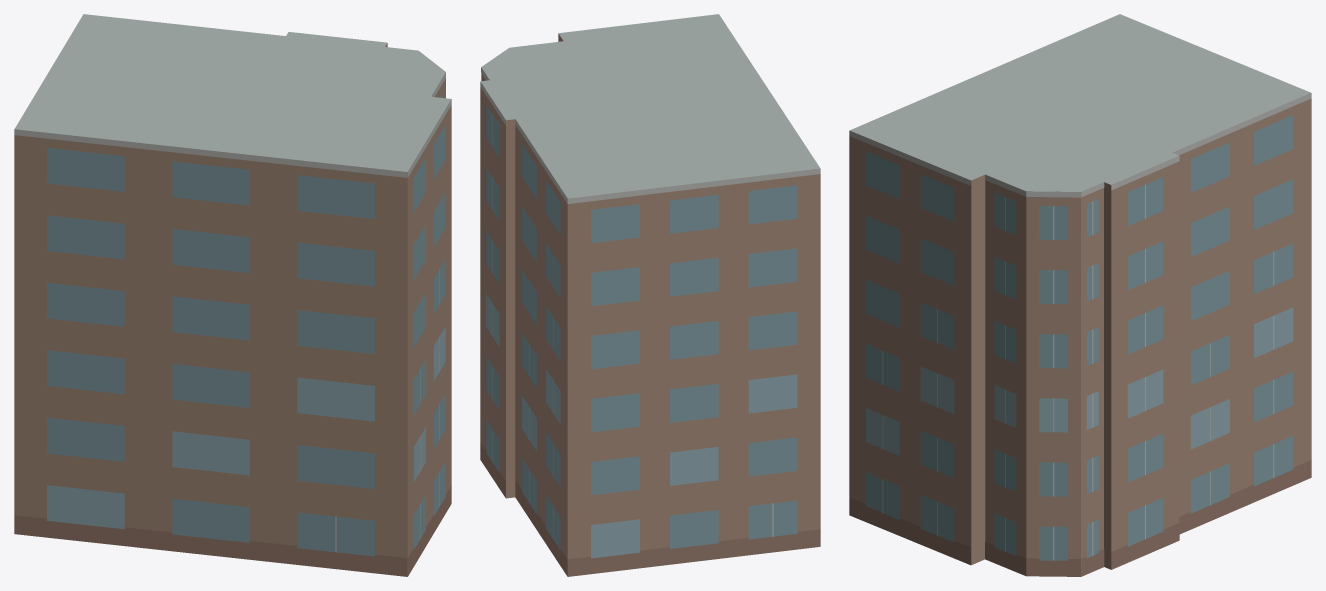
The model's file is survey-upis-33047568.glb.
3 renders of one model, left to right at view 1: azimuth 30°, elevation 25°; view 2: azimuth 150°, elevation 25°; view 3: azimuth 270°, elevation 25°, orthographic. The views are drawn at different scales.
Visible parts, largest first — view 1: survey-upis-33047568.tmp; view 2: survey-upis-33047568.tmp; view 3: survey-upis-33047568.tmp.
Boxes of the visible parts, x1,y1,x2,y2 form: survey-upis-33047568.tmp: [14, 14, 451, 576]; survey-upis-33047568.tmp: [480, 14, 820, 576]; survey-upis-33047568.tmp: [849, 14, 1311, 576].
Bounding box in the file's own units: 16.83 × 16.95 × 18.45.
